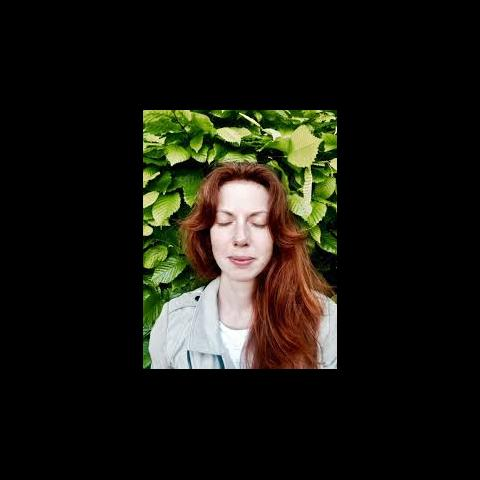closed: (202, 207, 280, 232)
